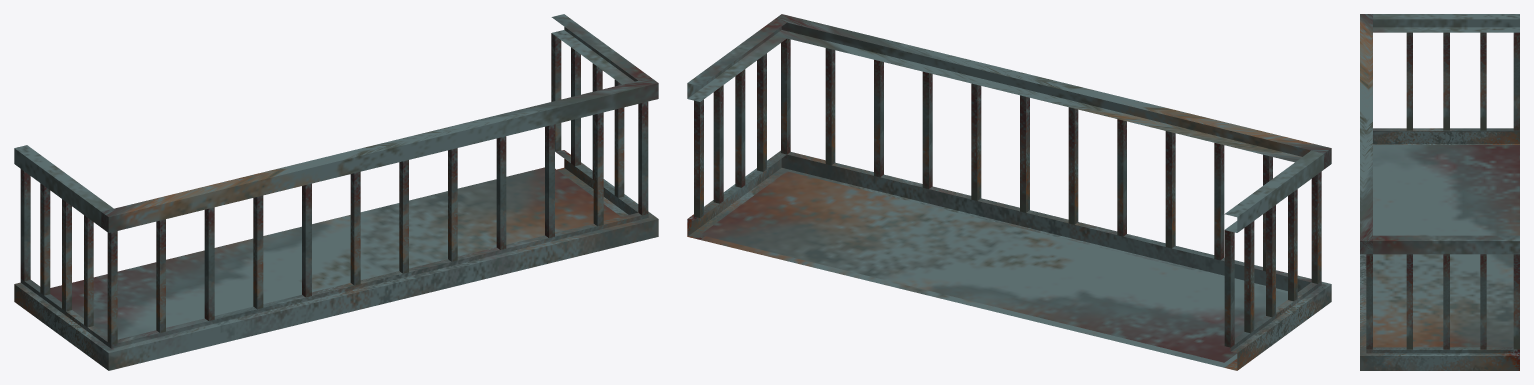
File: VarandaGradePequena 1.fbx
The picture shows the model from 3 angles, left to right: view 1: azimuth 30°, elevation 25°; view 2: azimuth 150°, elevation 25°; view 3: azimuth 270°, elevation 25°; orthographic projection. The views are drawn at different scales.
Visible parts, largest first — view 1: VarandaGradePequena; view 2: VarandaGradePequena; view 3: VarandaGradePequena.
Boxes of the visible parts, <box> form: VarandaGradePequena: <box>14,14,658,370</box>; VarandaGradePequena: <box>687,14,1331,370</box>; VarandaGradePequena: <box>1360,14,1519,370</box>.
Size of the model in its own units: 805 by 215 by 240.
